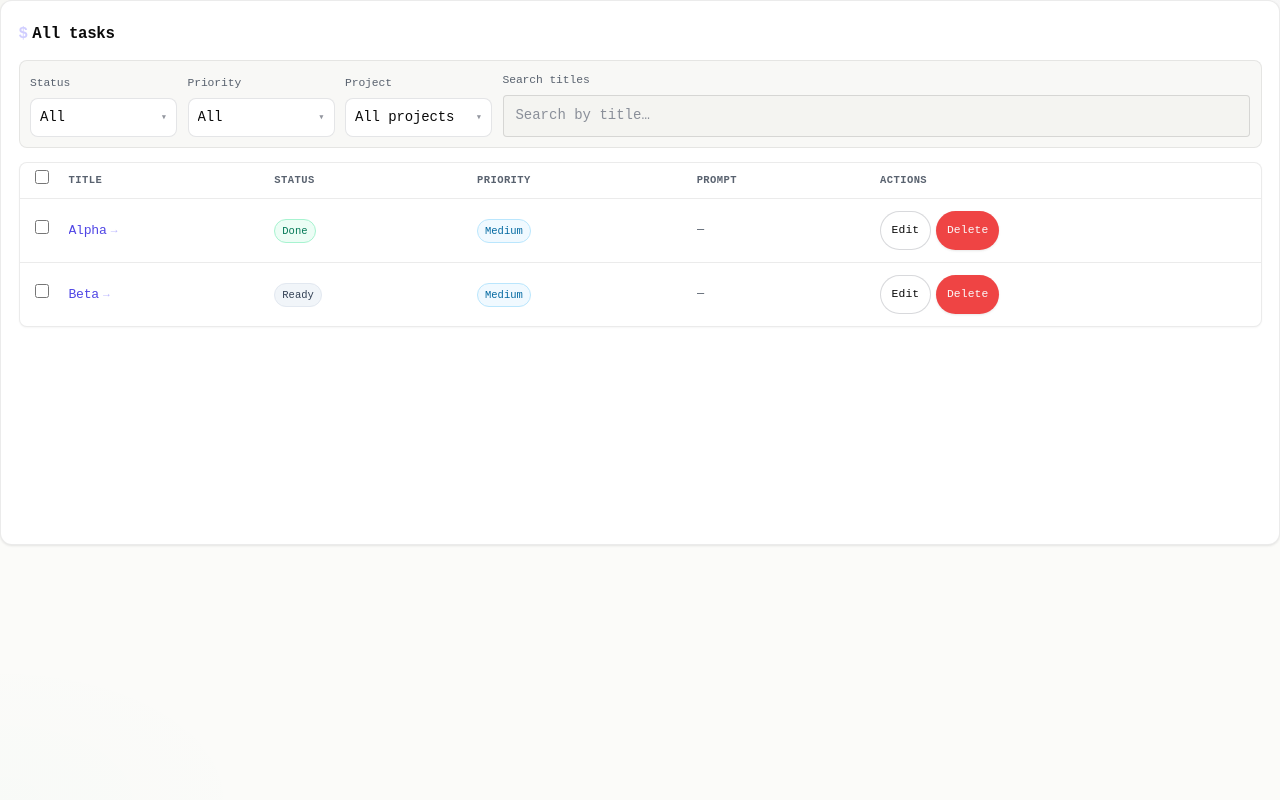
it: TaskListSection › bulk reschedule › disables Reschedule when any selected task is done
Click the checkbox with test id "task-list-select-row-a". click: (42, 227)
box: [35,220,49,234]
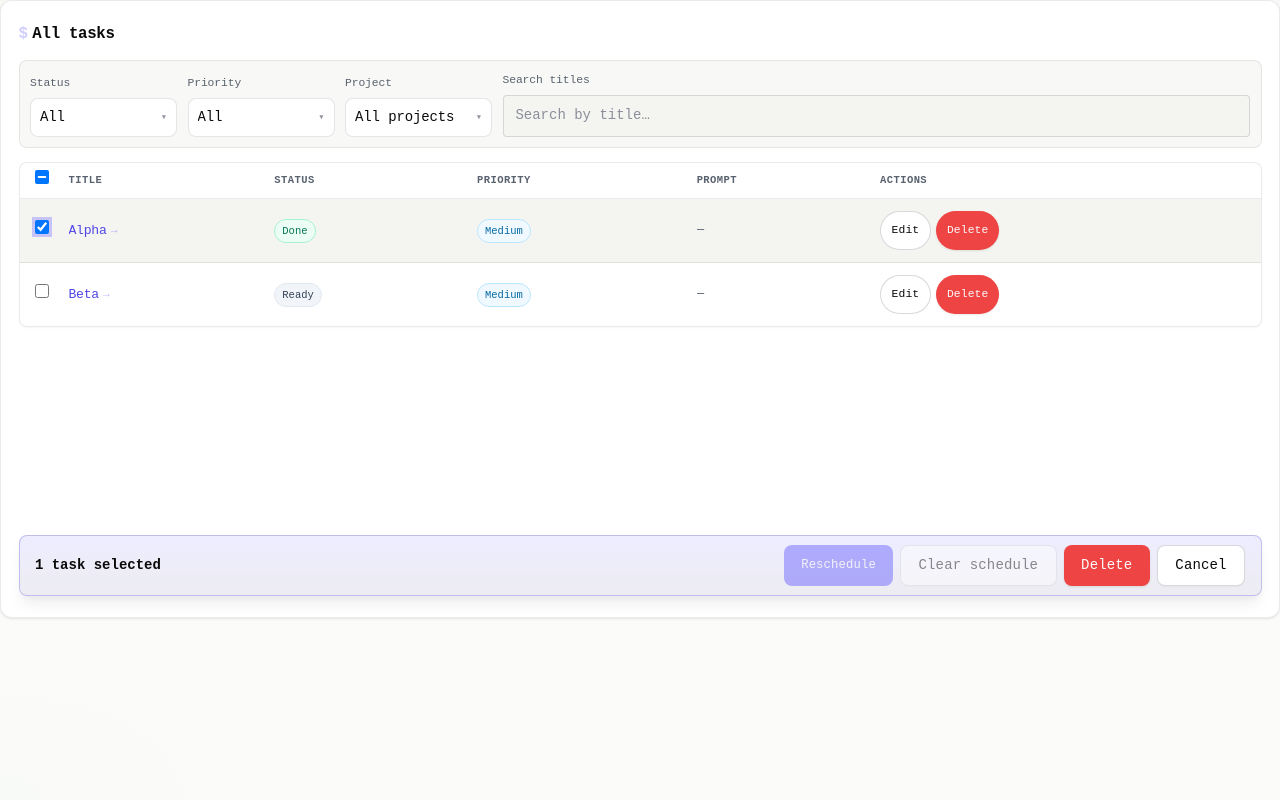
Now the button with test id "task-list-bulk-bar-reschedule" is disabled, box [784,545,893,586]
